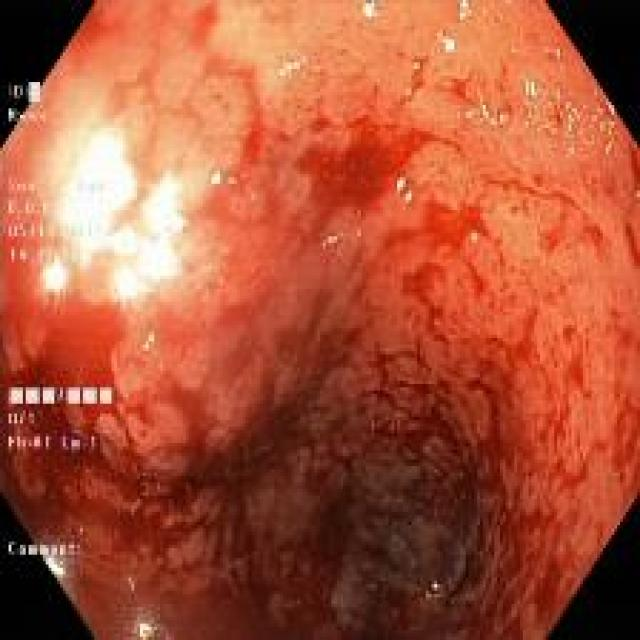ulcerative-colitis-grade-3: (0, 1, 640, 638)
